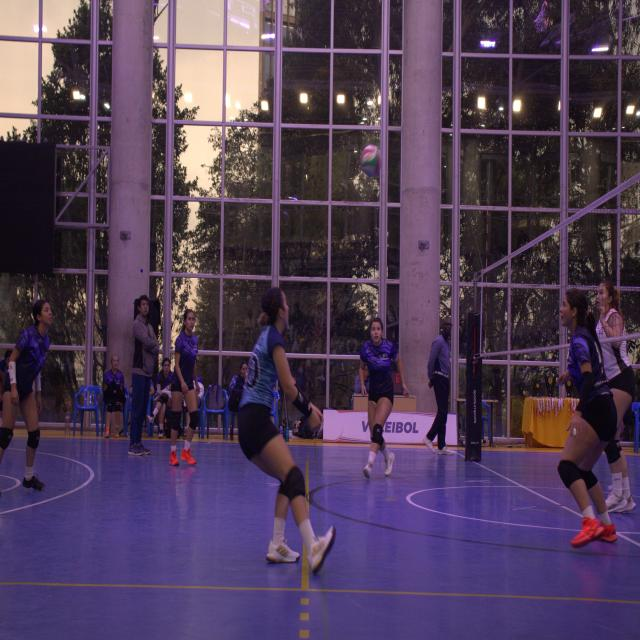volleyball: (360, 145, 381, 176)
